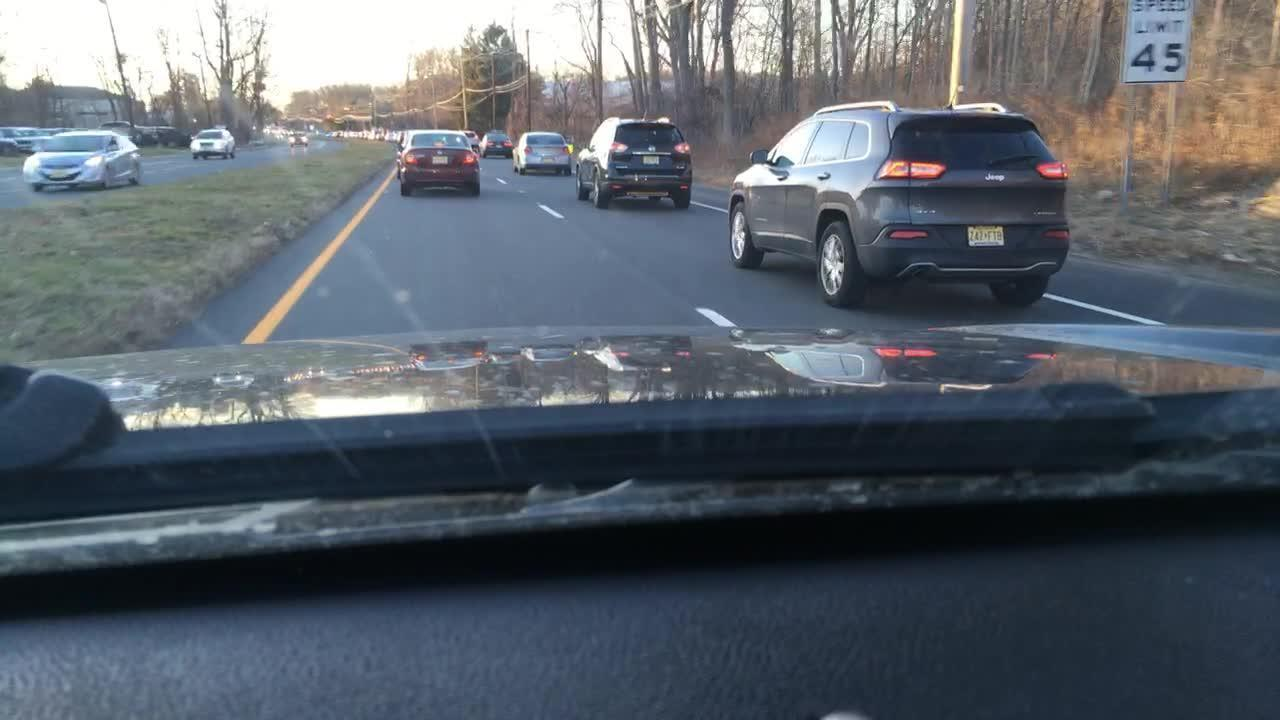jeep: (981, 167, 1010, 189)
